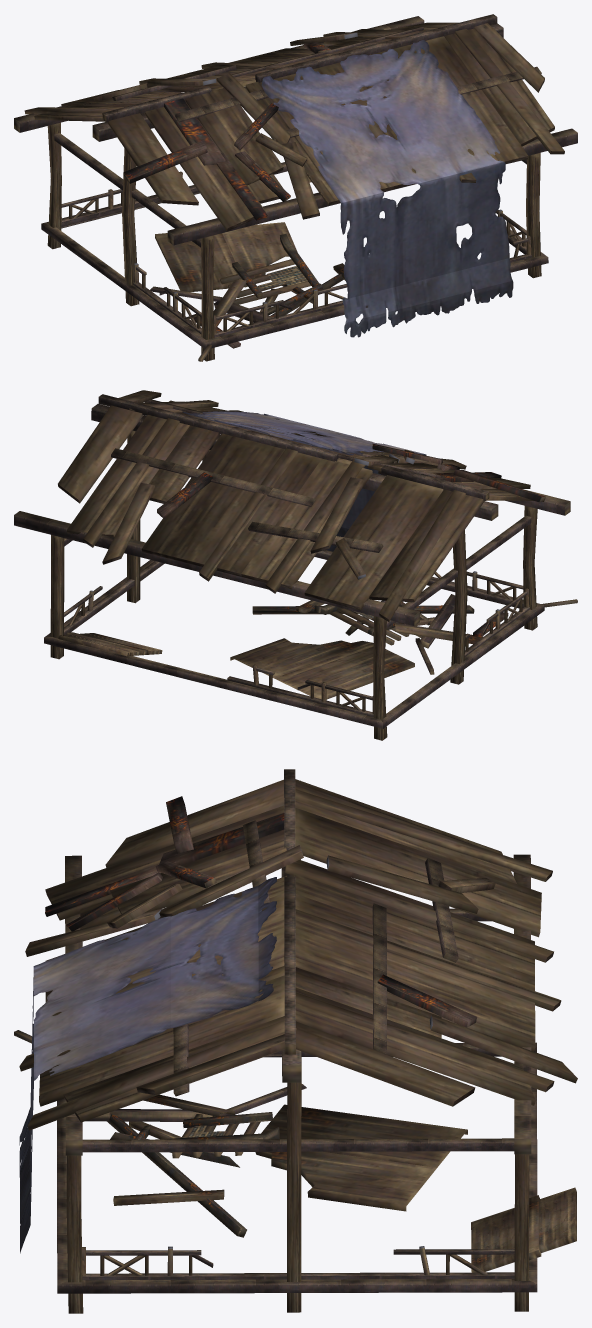
The model's file is FeiXuAll1_FangZi03.FBX.
3 views of the same model, one above another, from view 1: azimuth 30°, elevation 25°; view 2: azimuth 150°, elevation 25°; view 3: azimuth 270°, elevation 25° (orthographic). The views are drawn at different scales.
Parts seen in each view (by area): view 1: FeiXuAll1_FangZi03; view 2: FeiXuAll1_FangZi03; view 3: FeiXuAll1_FangZi03.
Boxes of the visible parts, x1,y1,x2,y2 form: FeiXuAll1_FangZi03: (14,14,577,361); FeiXuAll1_FangZi03: (14,390,577,740); FeiXuAll1_FangZi03: (14,769,577,1313).
Bounding box in the file's own units: 1154 × 552 × 925.
